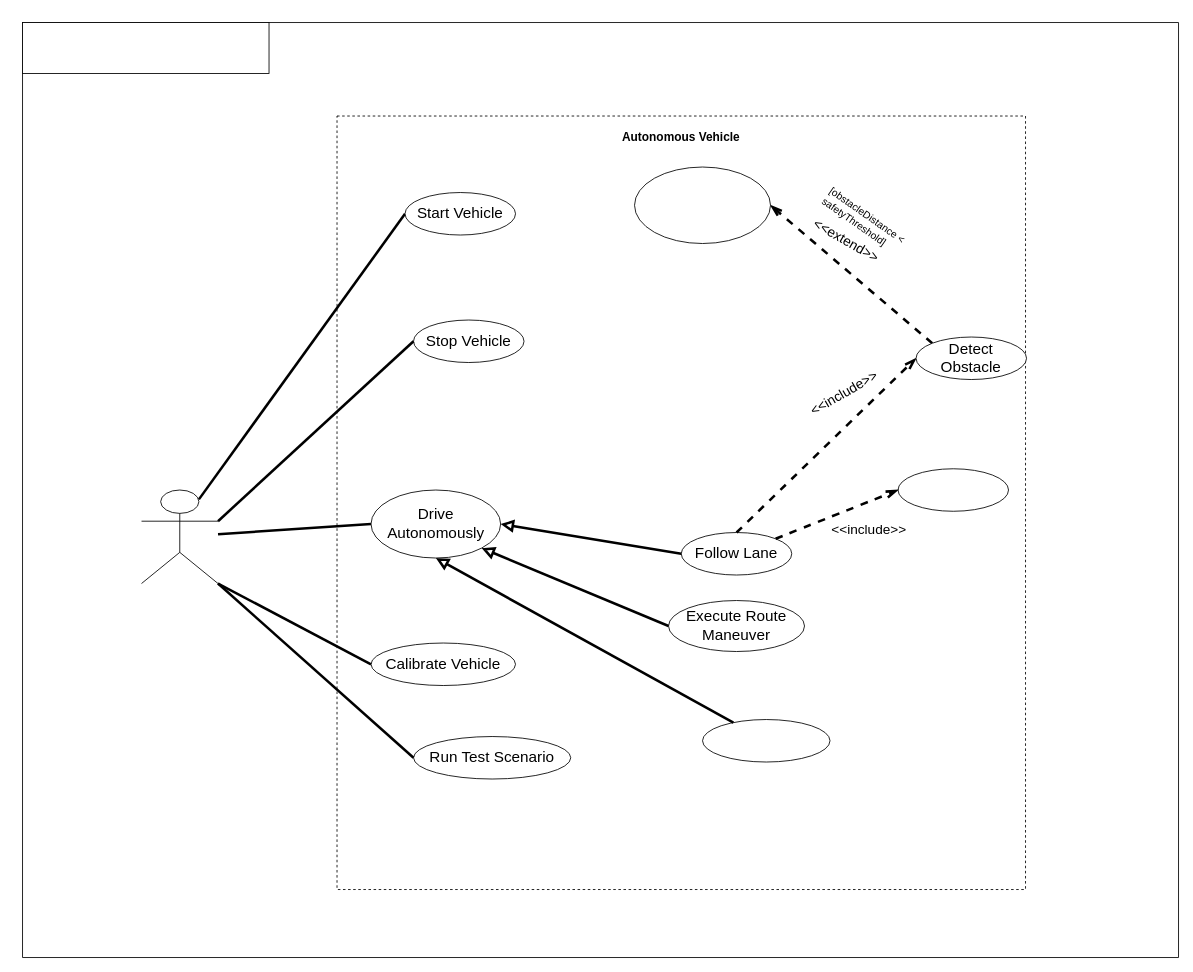
Image size: 1193x972. Some labels were removed from this diagram. Each missing label, with the centre of its shape:
Operator: the point at 179,536
Optimize Speed: the point at 953,489
Park Vehicle: the point at 766,740
Perform Emergency Stop: the point at 702,205
uc [Package] AutonomousVehicleUseCases: the point at 145,48
